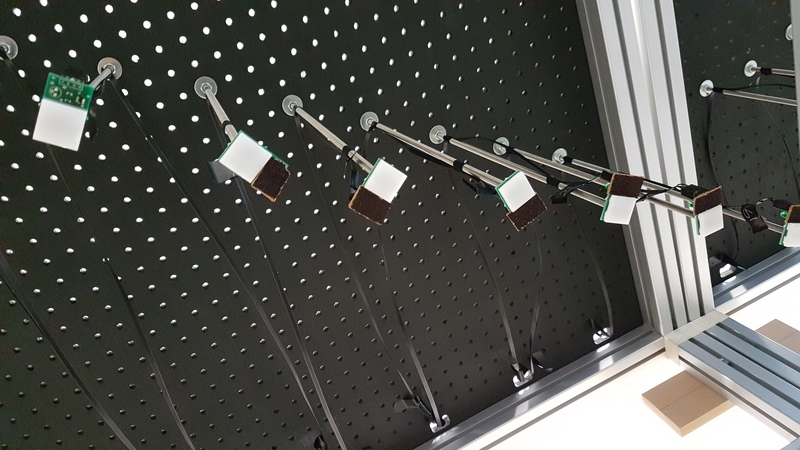target: (29, 99, 91, 154), (216, 132, 275, 184), (363, 157, 407, 205), (494, 171, 539, 214), (602, 192, 635, 226), (698, 203, 723, 237)
